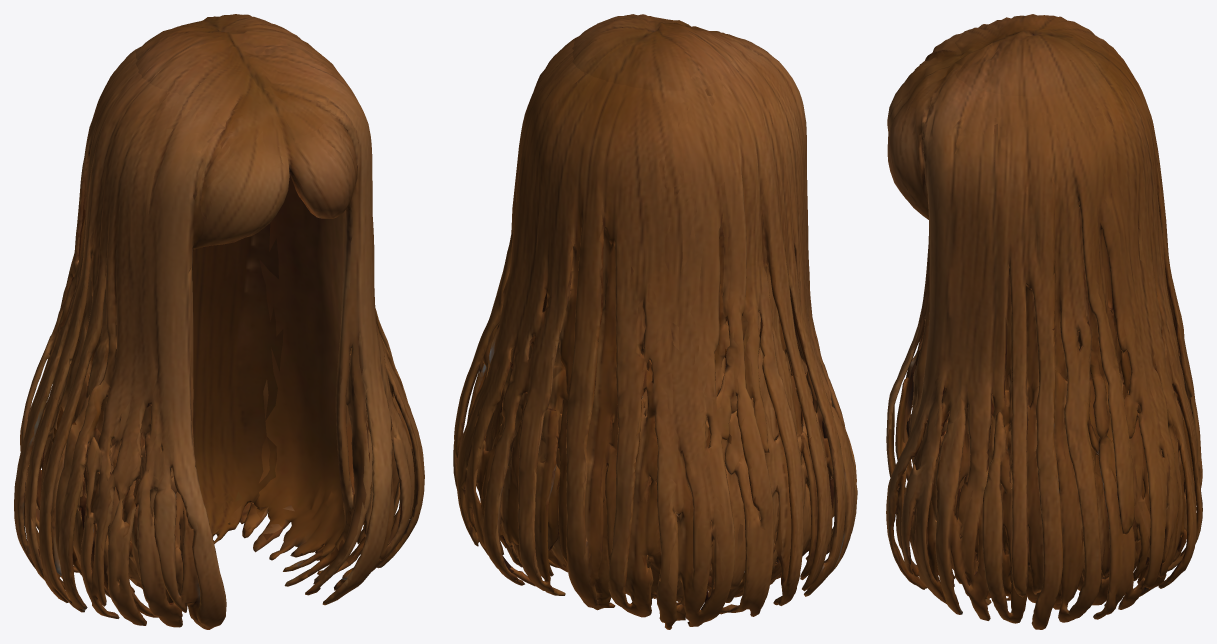
The model's file is hair_long.fbx.
3 renders of one model, left to right at view 1: azimuth 30°, elevation 25°; view 2: azimuth 150°, elevation 25°; view 3: azimuth 270°, elevation 25°, orthographic. The views are drawn at different scales.
Visible parts, largest first — view 1: material_0.004; view 2: material_0.004; view 3: material_0.004.
Boxes of the visible parts, x1,y1,x2,y2 form: material_0.004: (14,14,424,629); material_0.004: (453,14,857,629); material_0.004: (886,14,1202,629).
Size of the model in its own units: 74.88 by 108 by 57.88.
2 materials, 2 textured.
